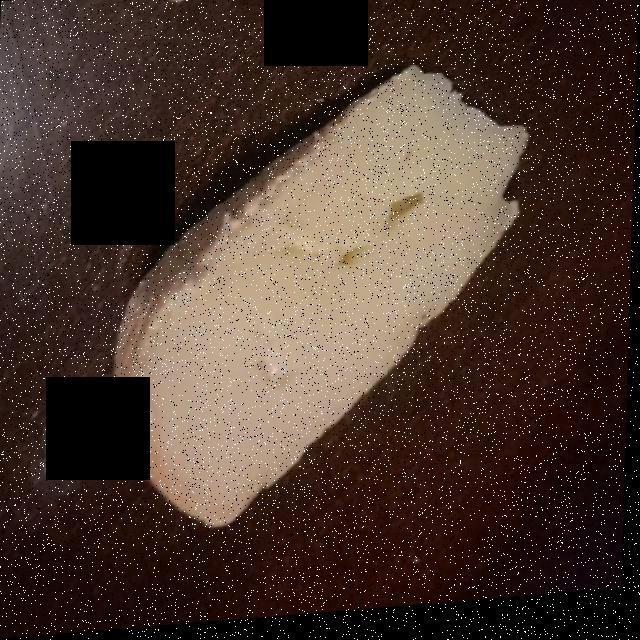cheese: (121, 80, 519, 522)
